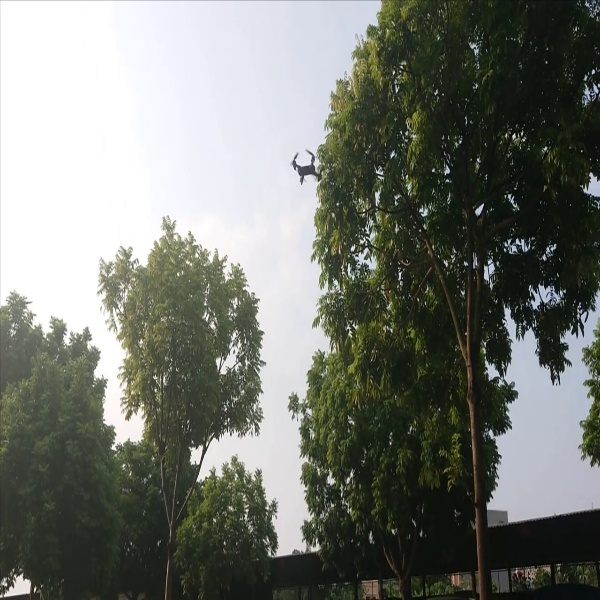drone: (277, 144, 326, 185)
